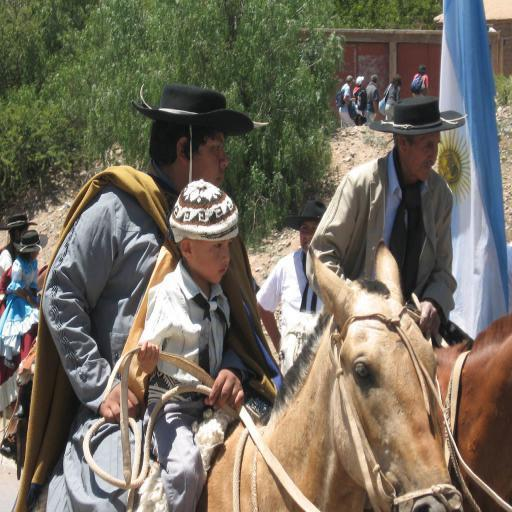horse: (30, 242, 465, 512), (428, 308, 512, 512)
